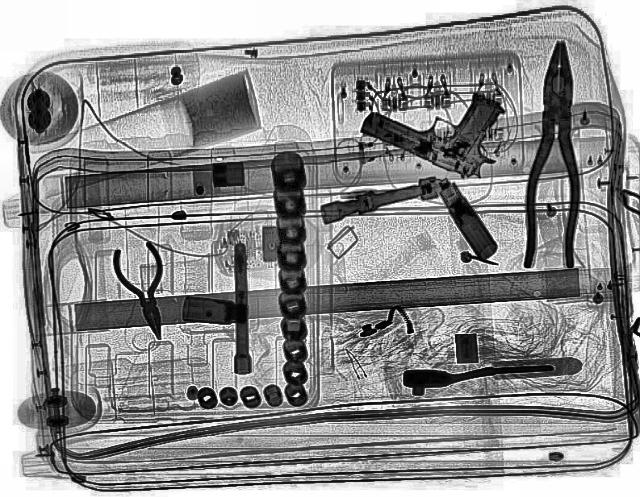Gun: (352, 65, 532, 184)
Pliers: (522, 40, 586, 272), (107, 240, 183, 342)
